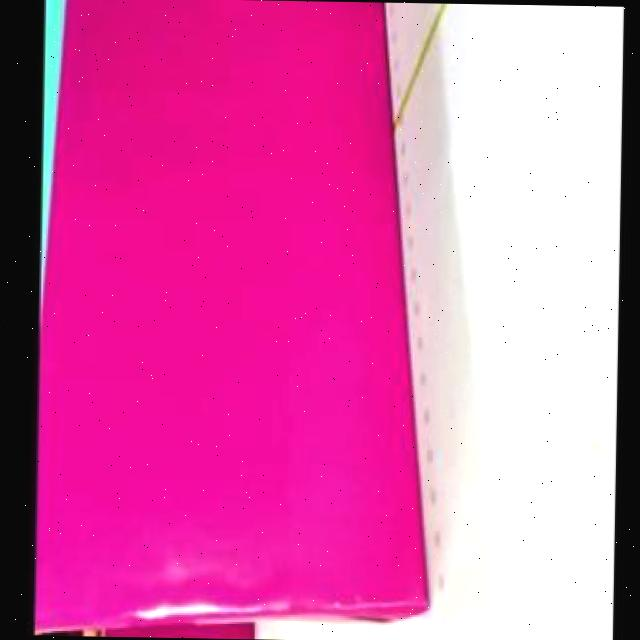xparking: (53, 0, 442, 616), (115, 620, 262, 634)
